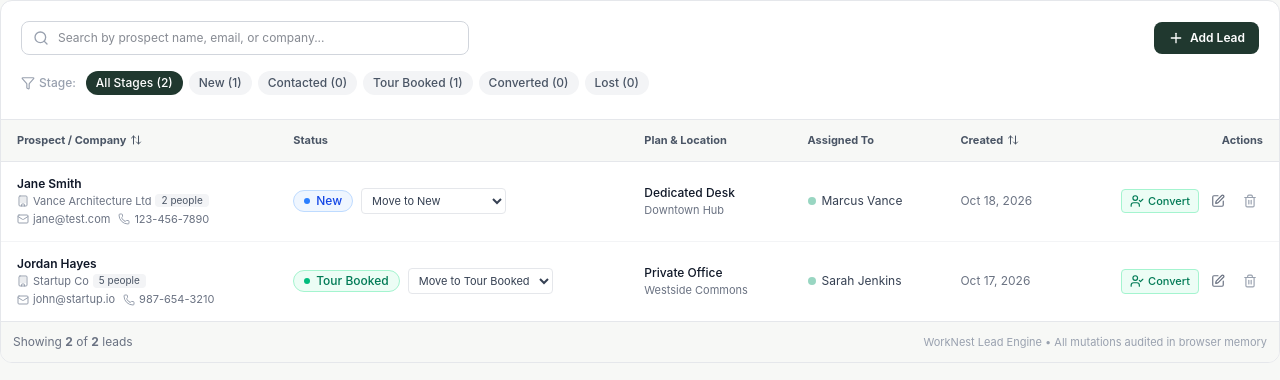
Test case: LeadsTable › filters leads by search input
This screenshot has width=1280, height=380.
Type "Startup" into the field with placeholder "Search by prospect name, email, or company..." at [245, 38], box [21,21,469,55]
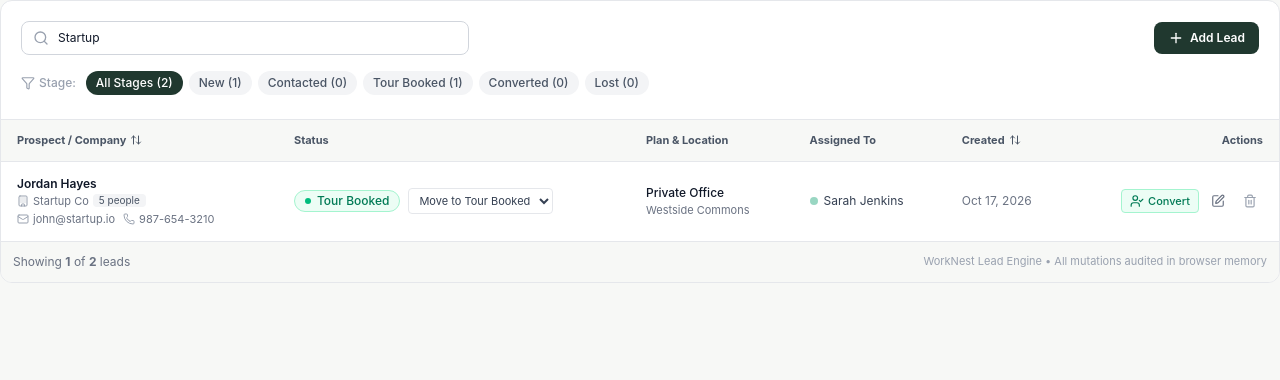
Expected: the text "Jordan Hayes" is shown, [17,176,97,190]
Expected: the text "Jane Smith" is gone
